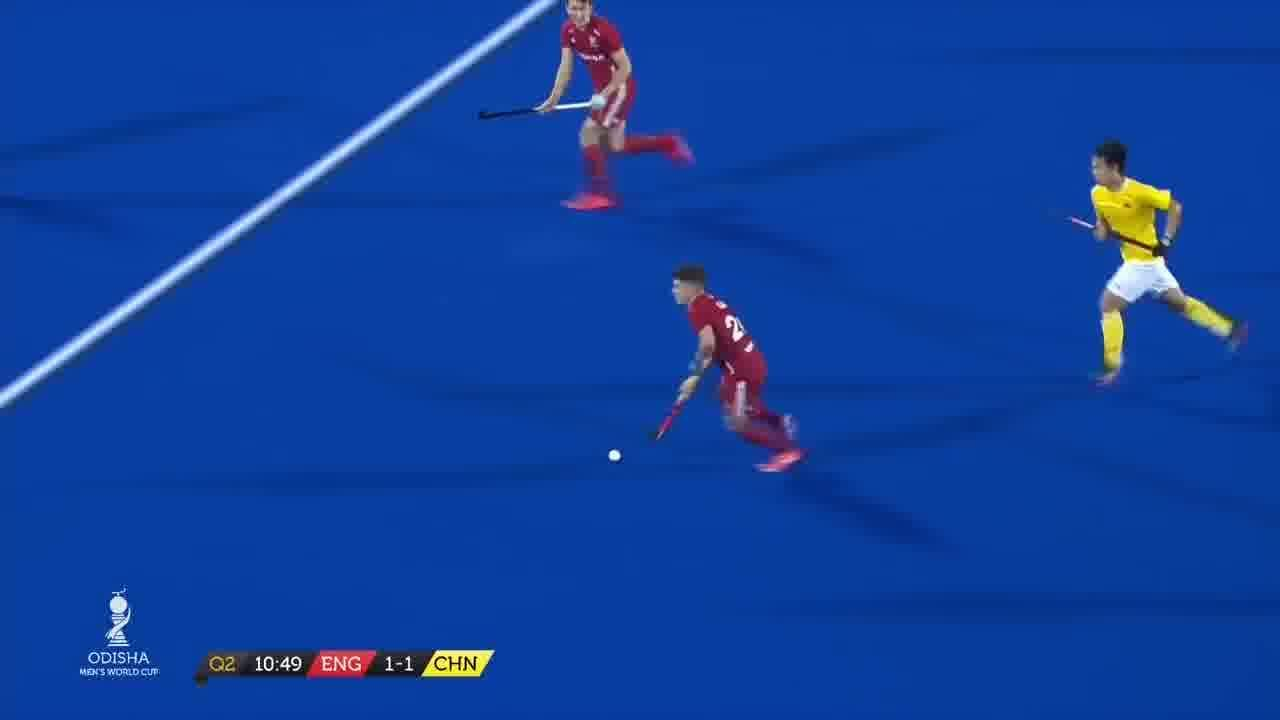ball: (606, 446, 632, 470)
